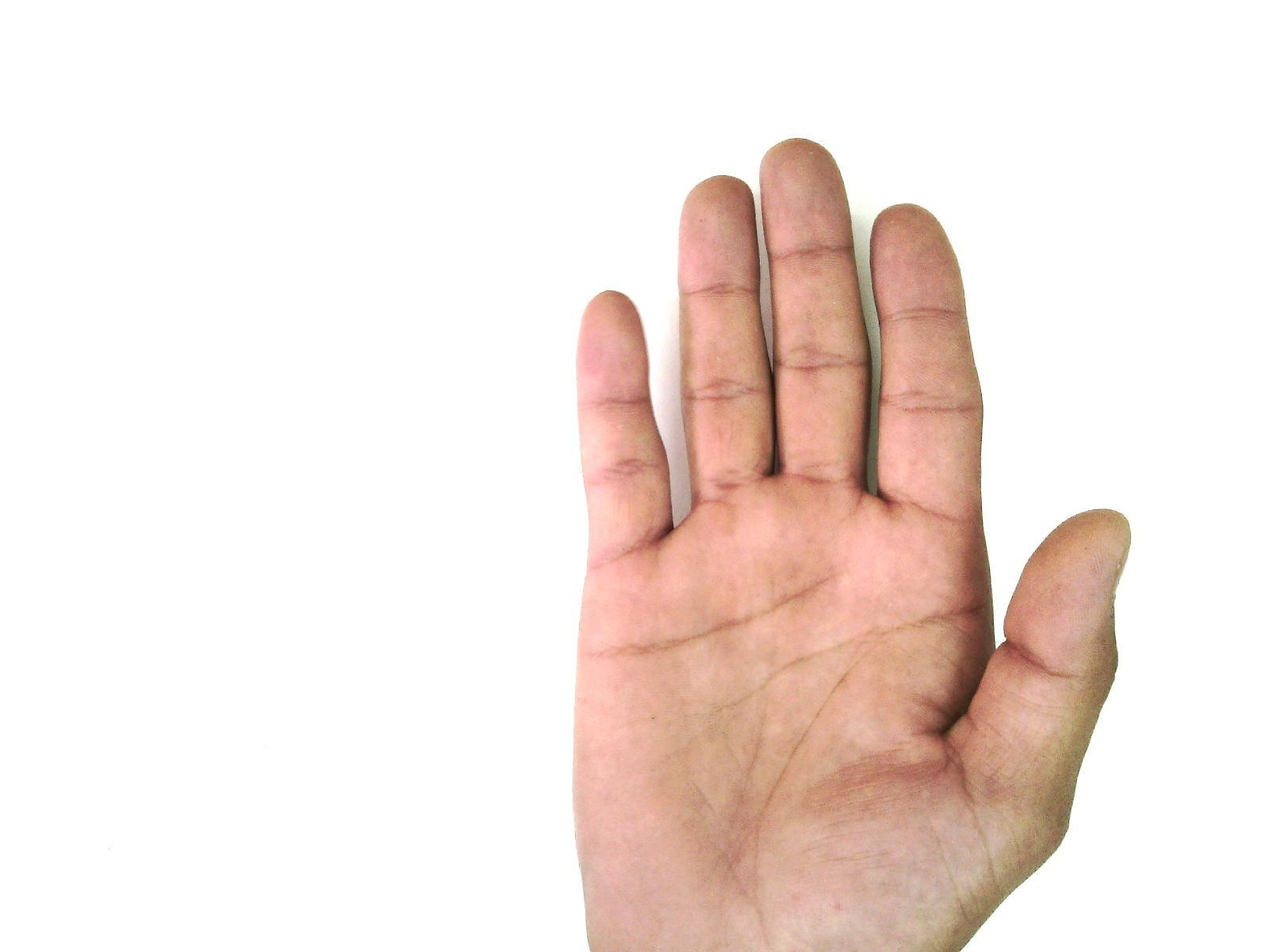open_palm: (567, 136, 1133, 952)
